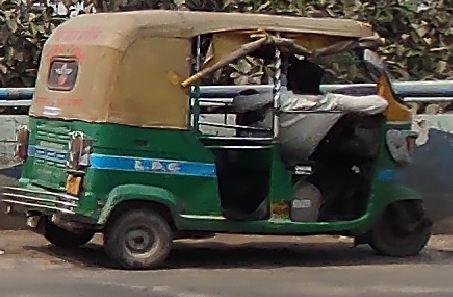Auto: (16, 8, 432, 275)
